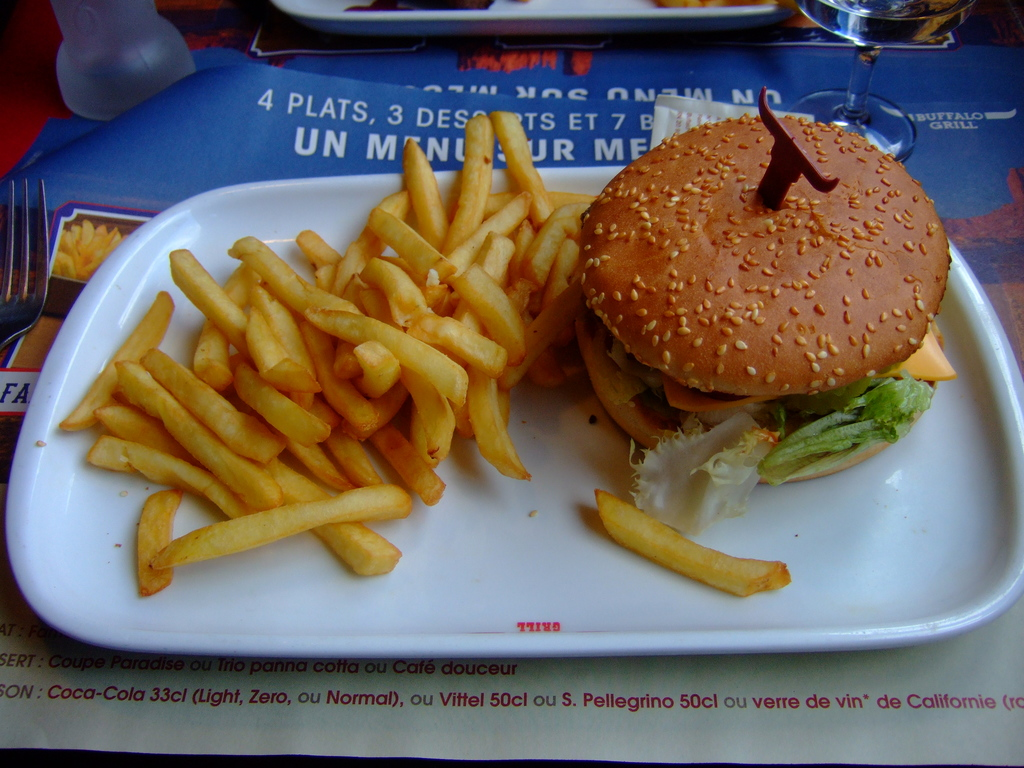French fries: (51, 101, 604, 603)
